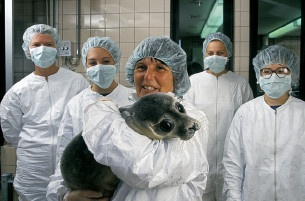Mask: (25, 37, 58, 70)
